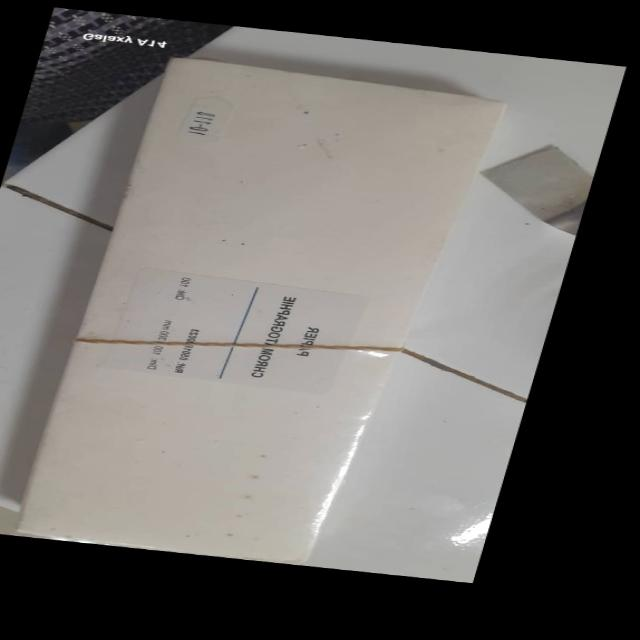Paper Chromatography: (24, 58, 488, 566)
